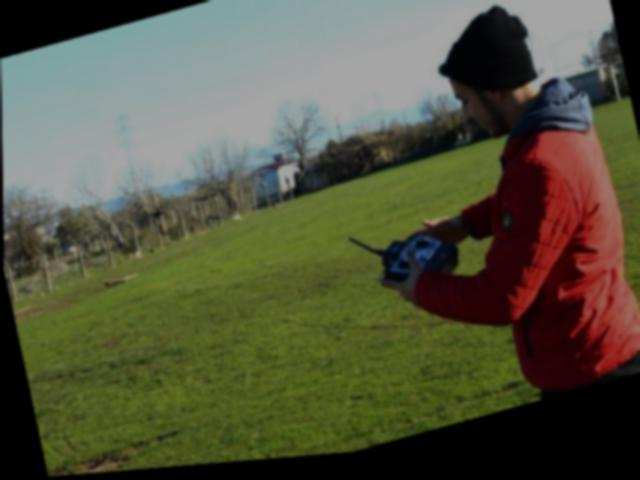iha: (91, 261, 144, 298)
